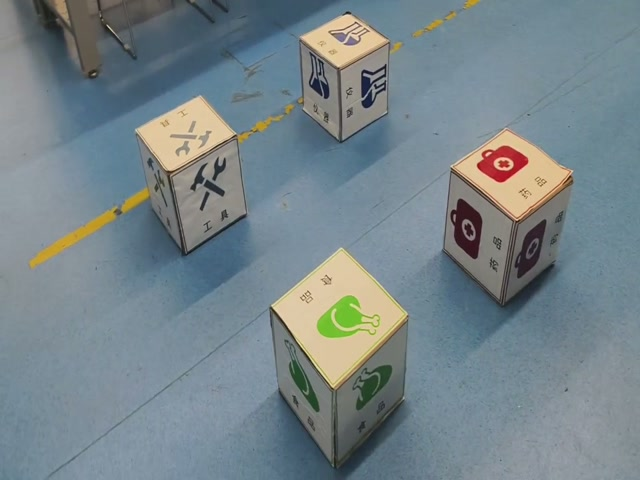Cube_food: (267, 245, 407, 393)
Cube_ins: (300, 11, 389, 70)
Cube_medicine: (448, 122, 575, 226)
Cube_tool: (131, 93, 238, 177)
